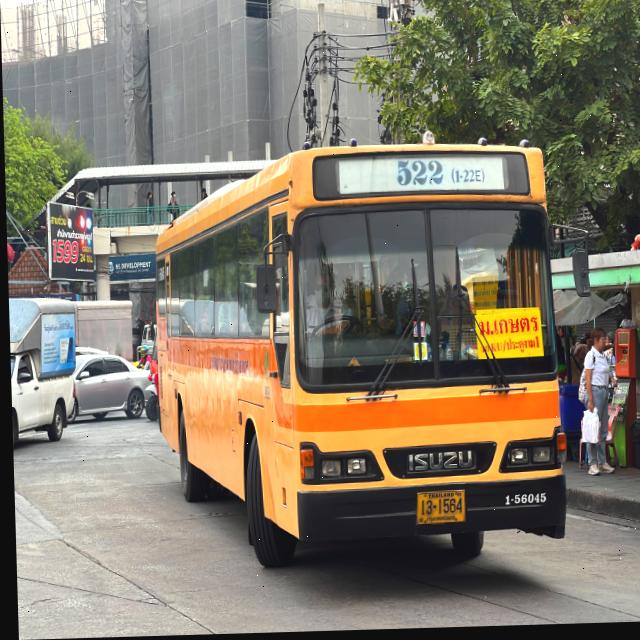BMTA-bus: (145, 126, 574, 579)
Bus Line Number: (391, 153, 489, 200)
Bus Side Number: (500, 491, 546, 514)
Destination Sign: (471, 310, 542, 362)
